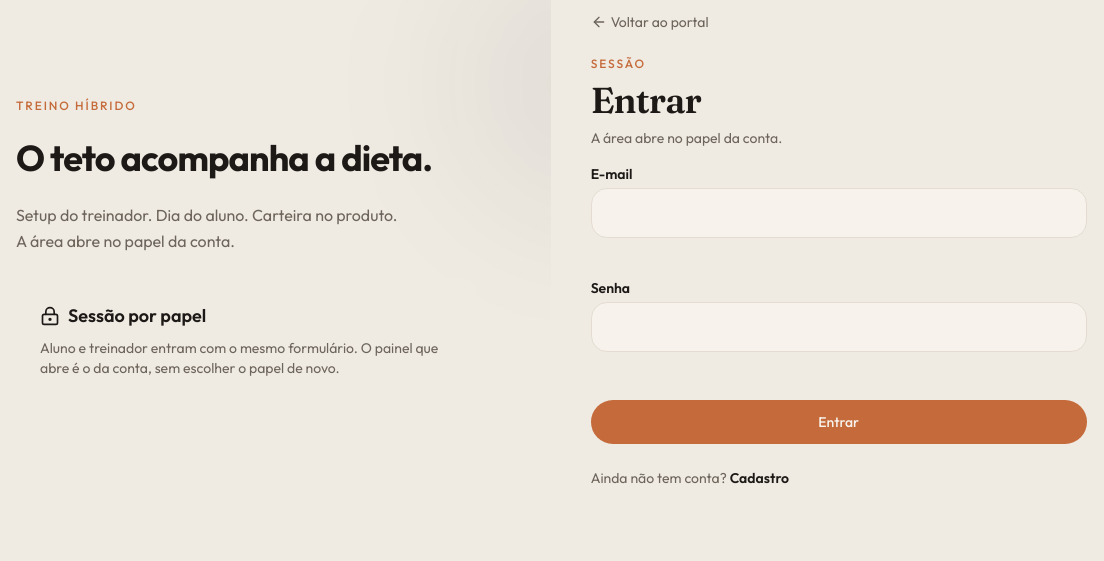
Test case: fetch rejeitado no login mostra falha, não grava JWT e não navega à área
In the field labelled "E-mail": (839, 213) [591, 188, 1087, 238], type "ana@example.com"
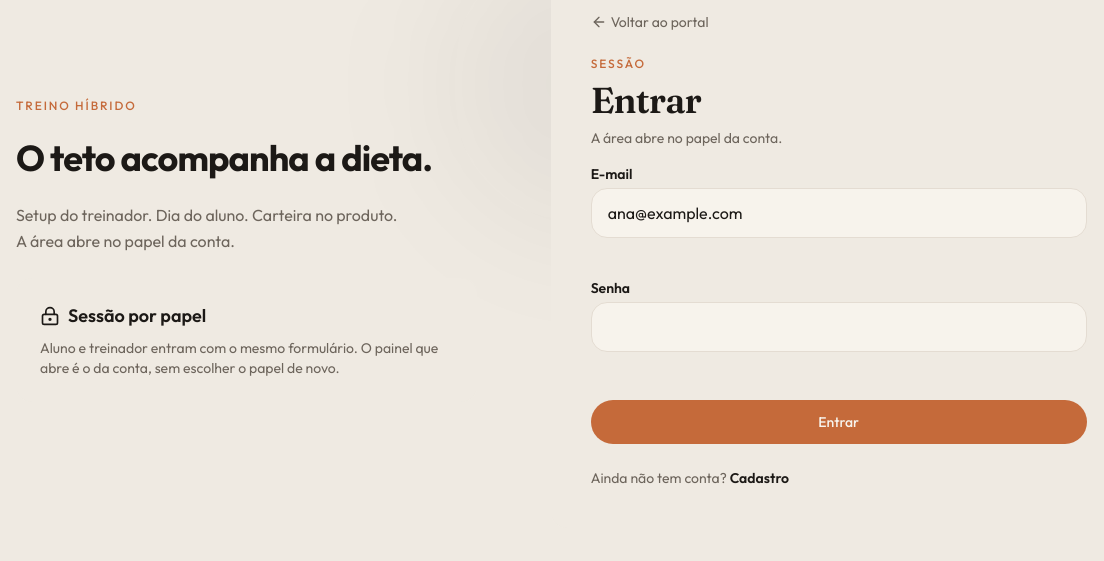
In the password field labelled "Senha": (839, 327) [591, 302, 1087, 352], type "Senha123"
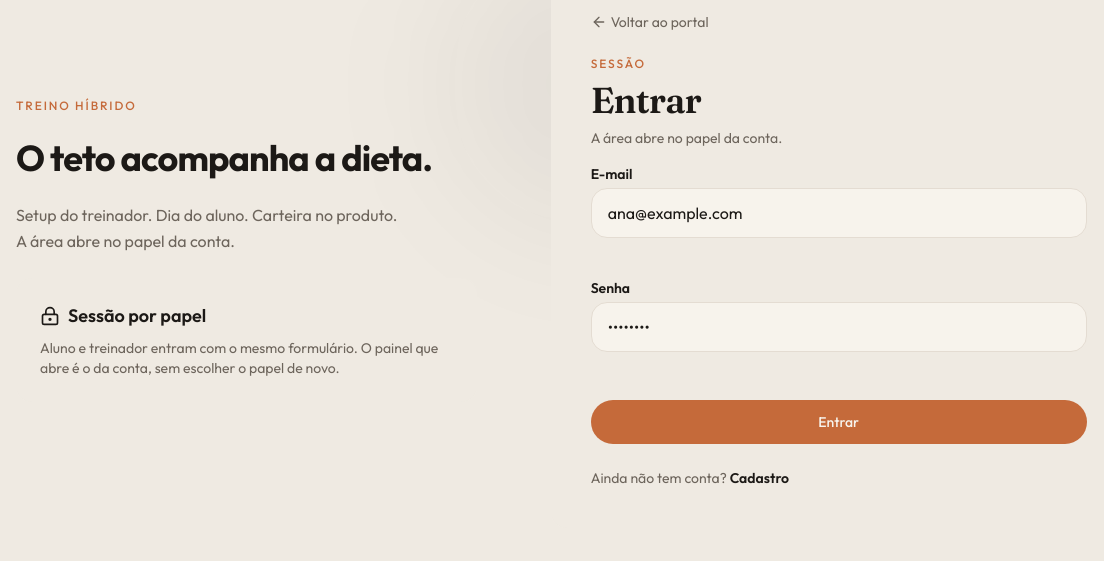
Click the button "Entrar": (839, 422) [591, 400, 1087, 444]
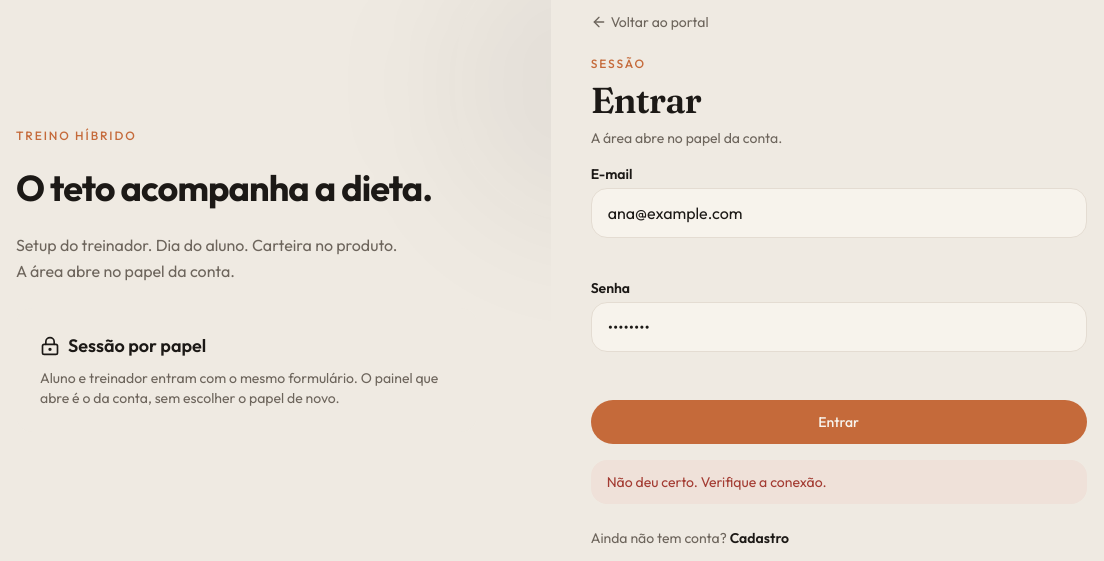
Now the text "Não deu certo. Verifique a conexão." is shown, box [591, 460, 1087, 504]
